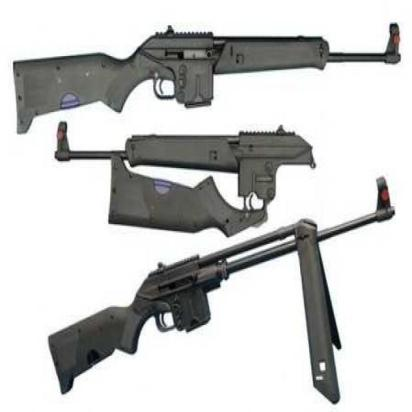Gun: (46, 160, 402, 406), (10, 0, 406, 140)
